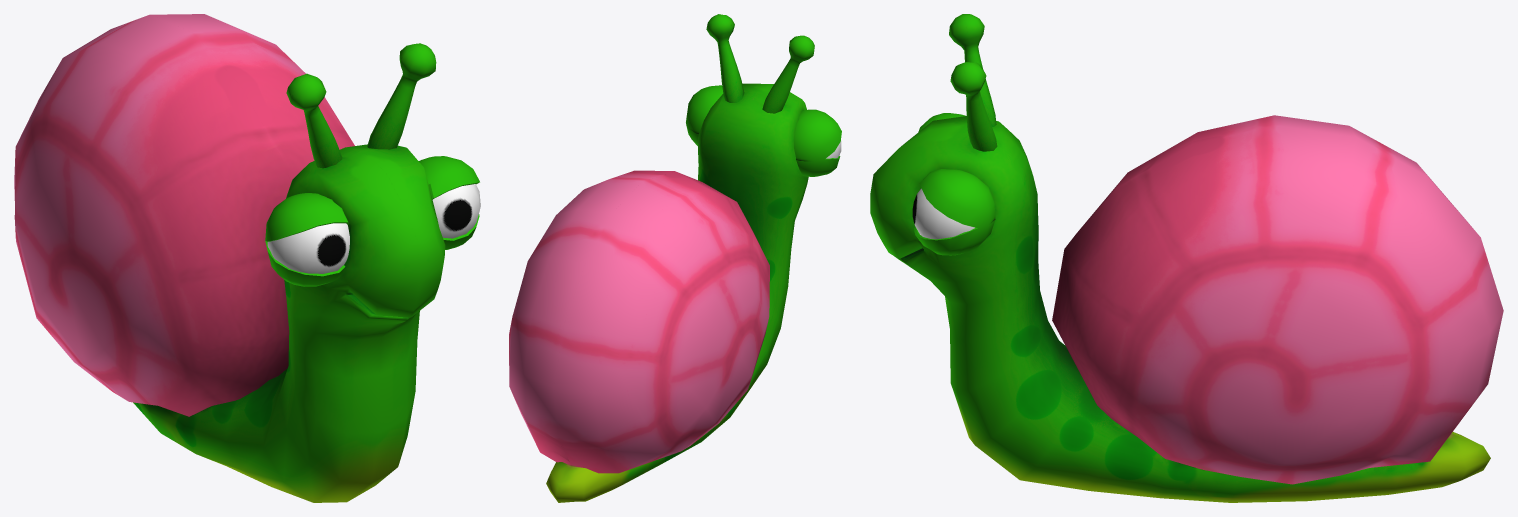
File: Snail_edited.fbx
3 views of the same model, side by side, from view 1: azimuth 30°, elevation 25°; view 2: azimuth 150°, elevation 25°; view 3: azimuth 270°, elevation 25° (orthographic). The views are drawn at different scales.
Parts seen in each view (by area): view 1: Home; view 2: Home; view 3: Home.
Part boxes in pixels (bbox=[...]): Home: bbox=[14, 14, 480, 502]; Home: bbox=[509, 14, 841, 502]; Home: bbox=[870, 14, 1503, 502].
Size of the model in its own units: 117 by 199 by 253.
